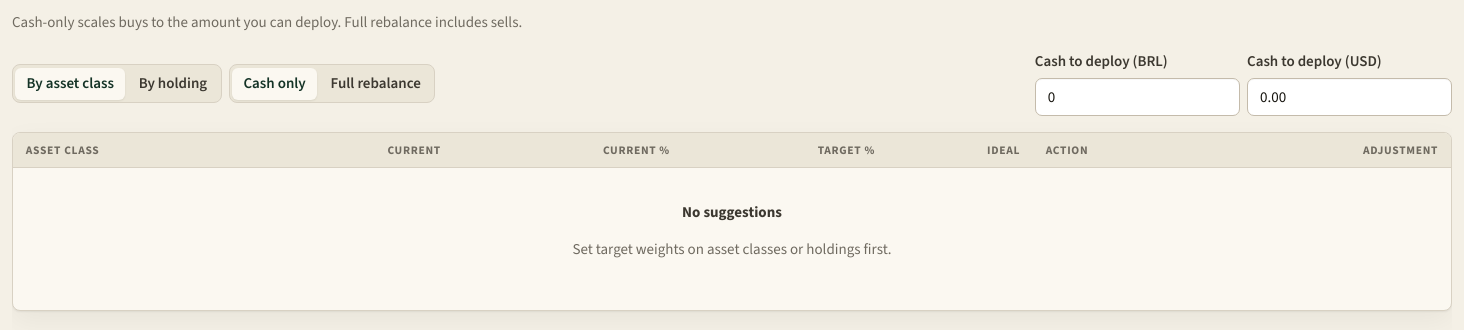
Scenario: RebalancePage › computes USD value correctly after typing
This screenshot has width=1464, height=330.
Replace the text in the field labelled "Cash to deploy (BRL)" with "1000" at (1137, 97), box [1035,78,1240,116]
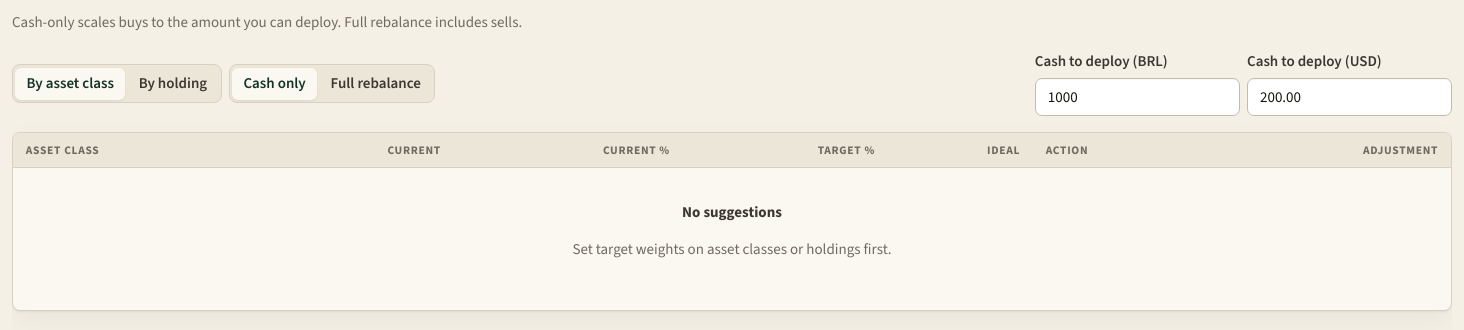
Expected: the field labelled "Cash to deploy (USD)" holds "200.00", [1247,78,1452,116]
